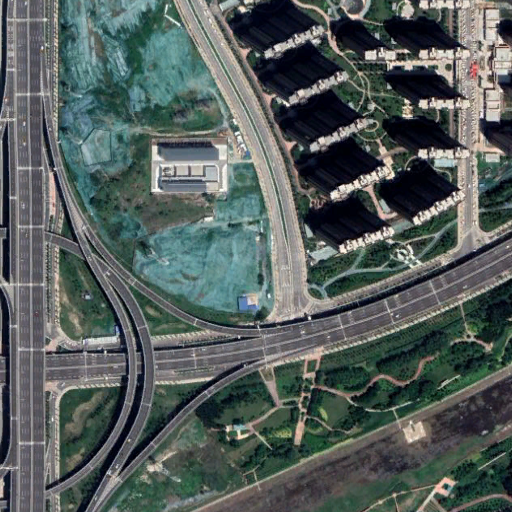cw: (56, 4, 274, 316)
